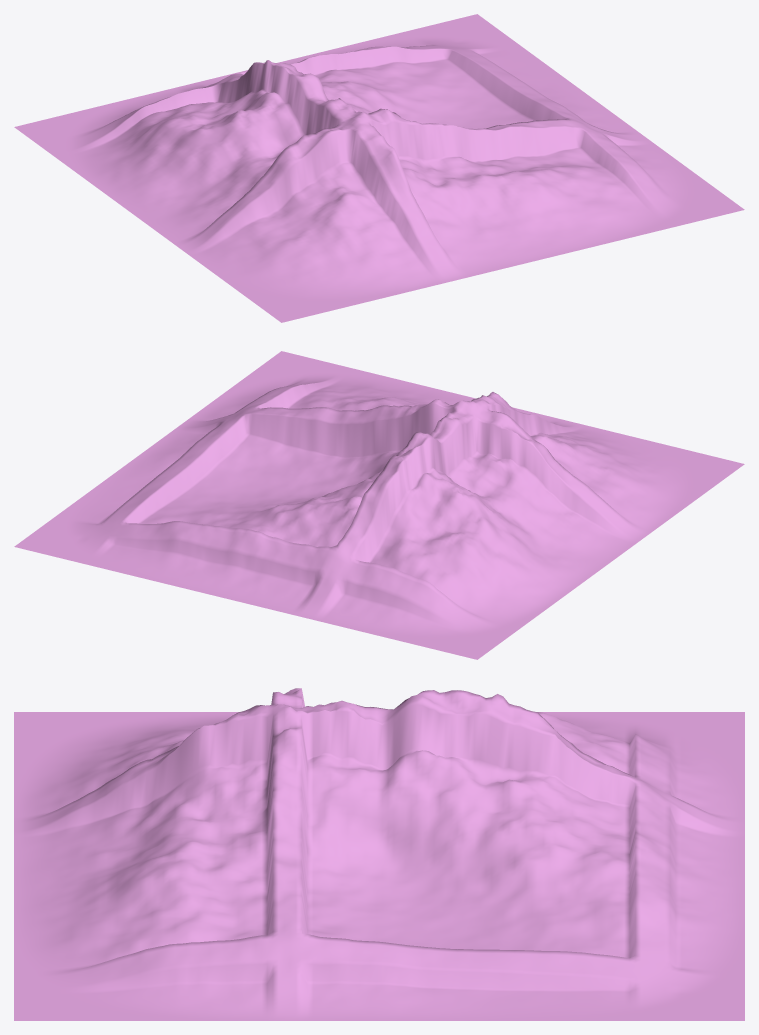
Rendered from pink_landscape.glb.
The picture shows the model from 3 angles, top to bottom: view 1: azimuth 30°, elevation 25°; view 2: azimuth 150°, elevation 25°; view 3: azimuth 270°, elevation 25°; orthographic projection. The views are drawn at different scales.
Visible parts, largest first — view 1: Landscape; view 2: Landscape; view 3: Landscape.
Boxes of the visible parts, x1,y1,x2,y2 form: Landscape: [14, 14, 744, 322]; Landscape: [14, 351, 744, 659]; Landscape: [14, 688, 744, 1020].
Bounding box in the file's own units: 2 × 0.399 × 2.
